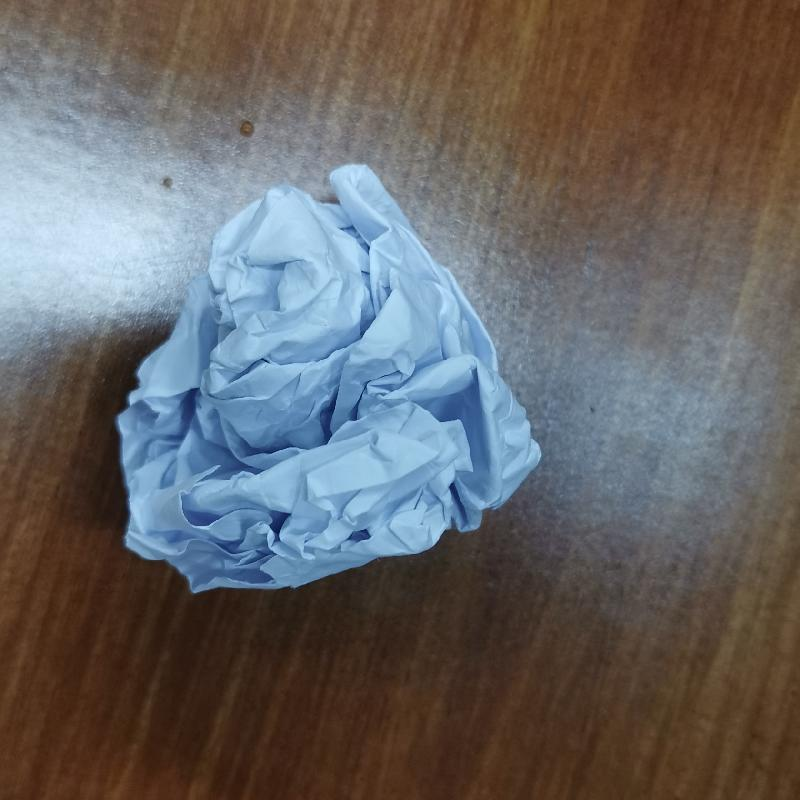spitball: (108, 160, 545, 596)
